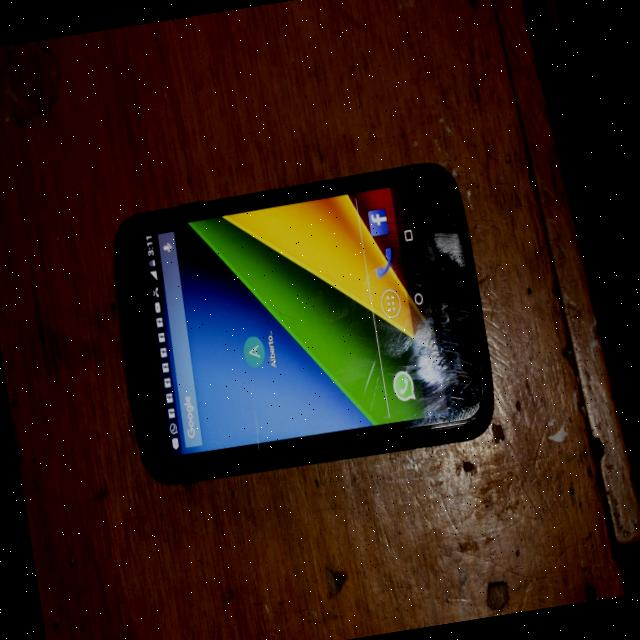Phone: (99, 150, 501, 490)
